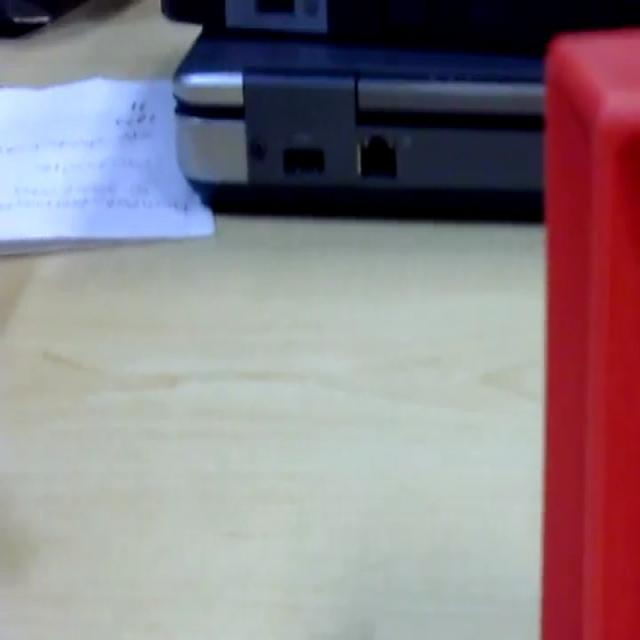red_block: (538, 25, 638, 636)
